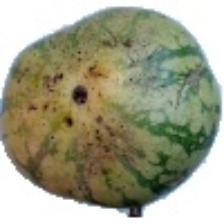watermelon: (31, 39, 214, 196)
